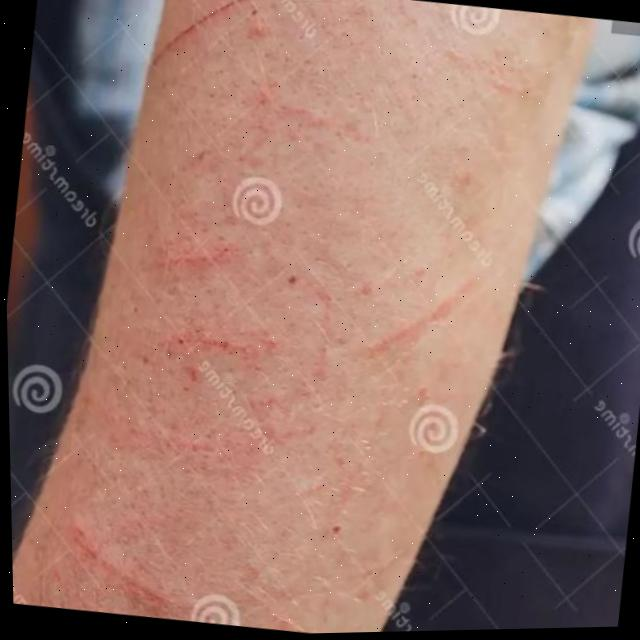Eczema: (86, 84, 412, 548)
